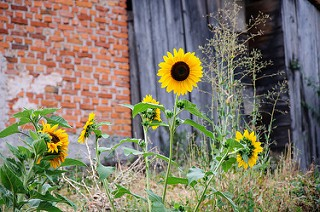flower: (155, 47, 204, 97), (232, 127, 264, 171)
